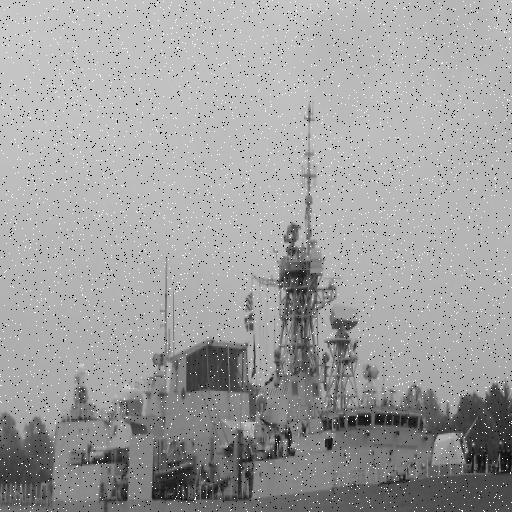Fragata: (1, 103, 512, 512)
